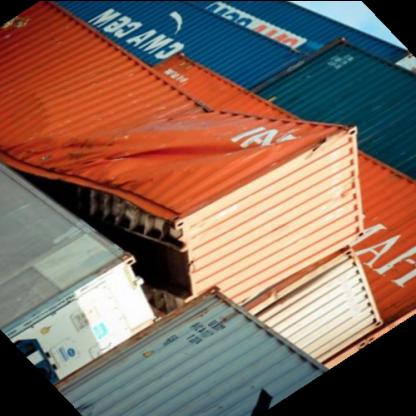Damage: (15, 85, 341, 184)
